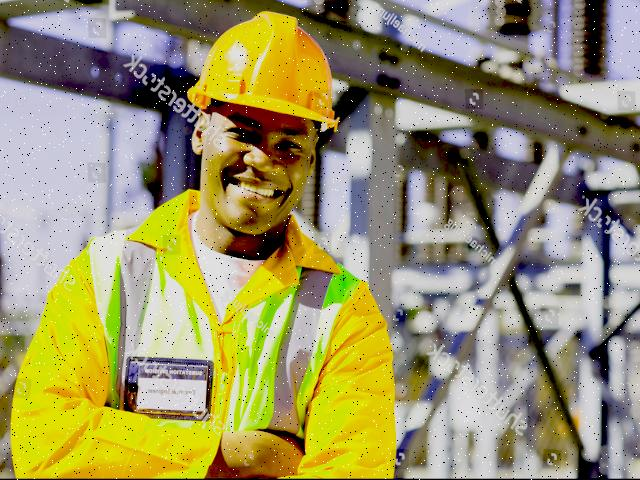Helmet: (182, 7, 344, 145)
